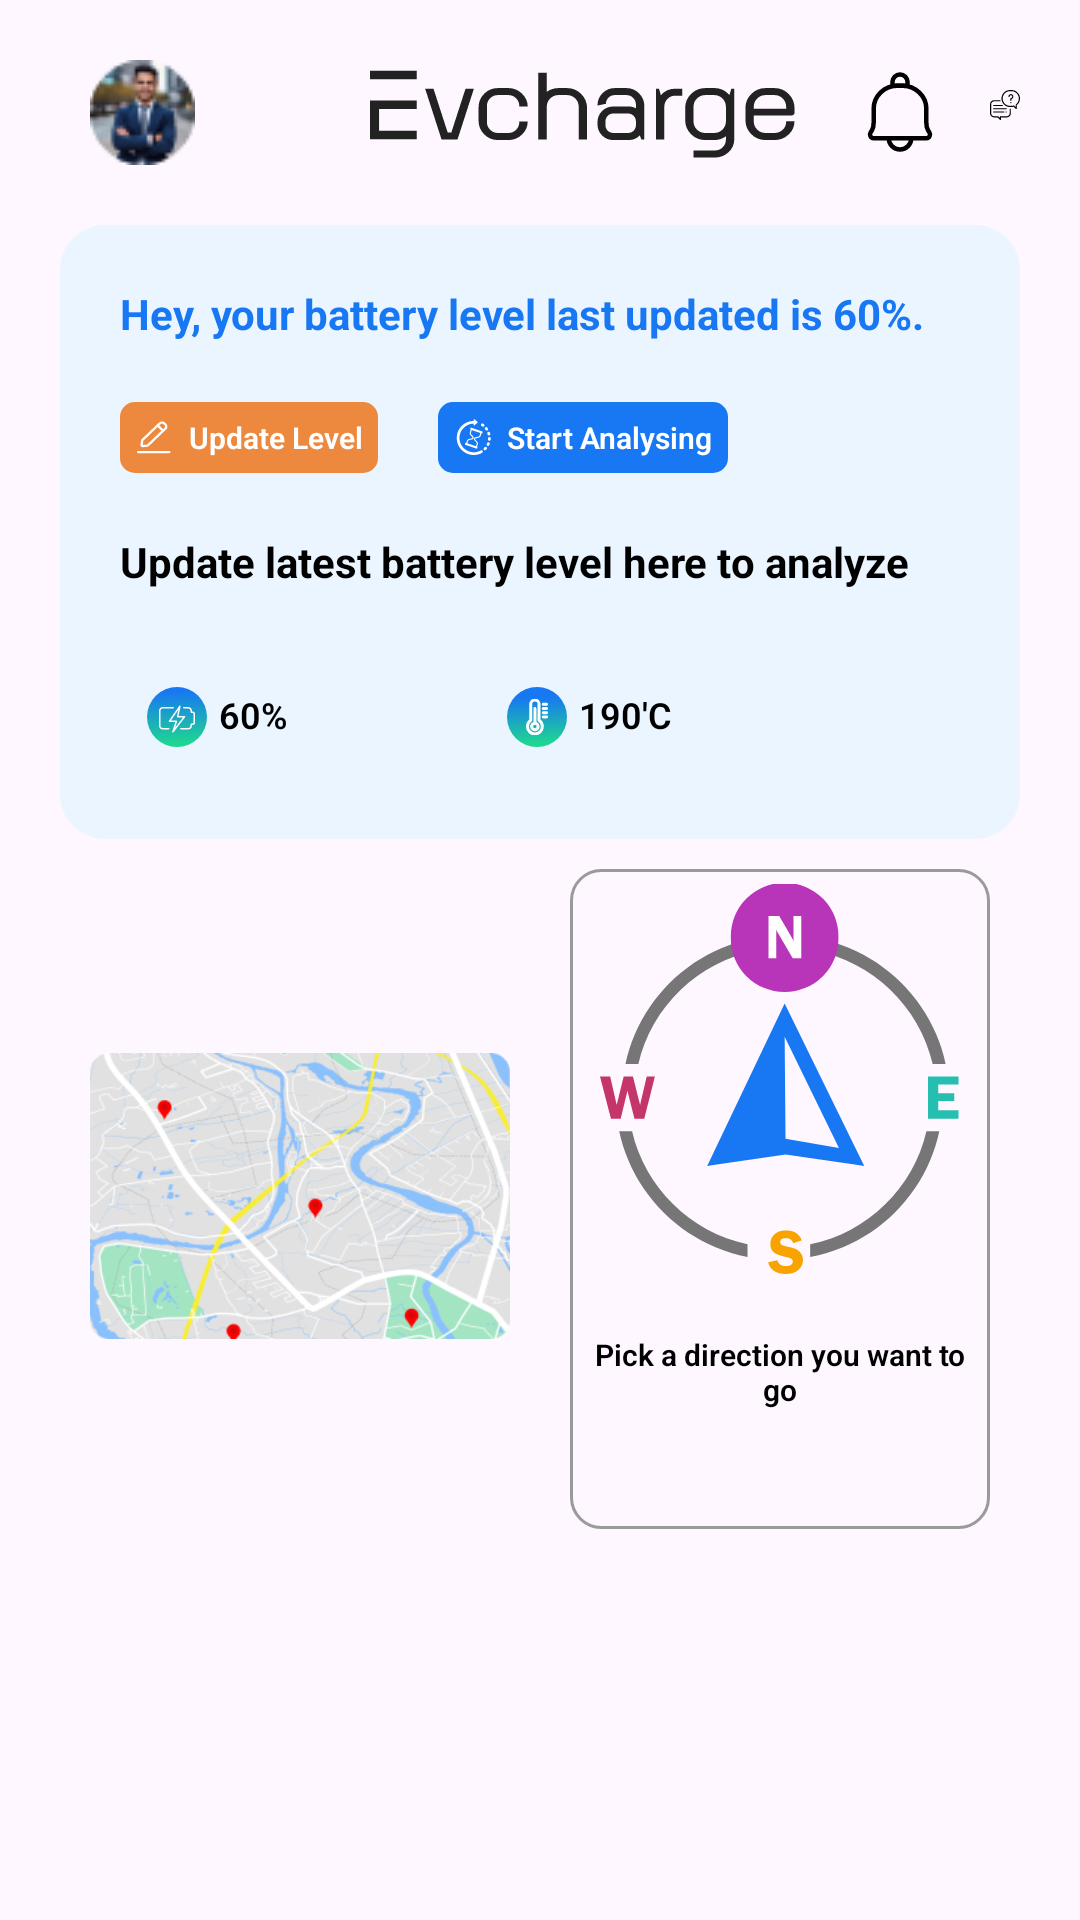

Screen size 1080×1920. Icon name, then its box in pixels as (x1,y1,x2,y2):
message: (990,90,1020,120)
notification: (867,72,933,152)
profile: (90,60,195,165)
